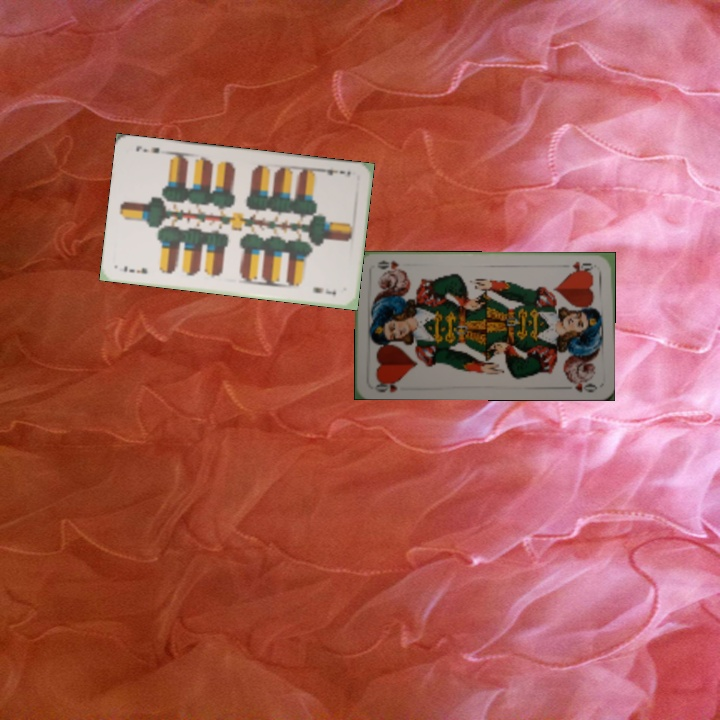E7: (316, 164, 353, 179), (120, 261, 149, 276)
HO: (371, 375, 403, 395), (568, 257, 596, 275)
